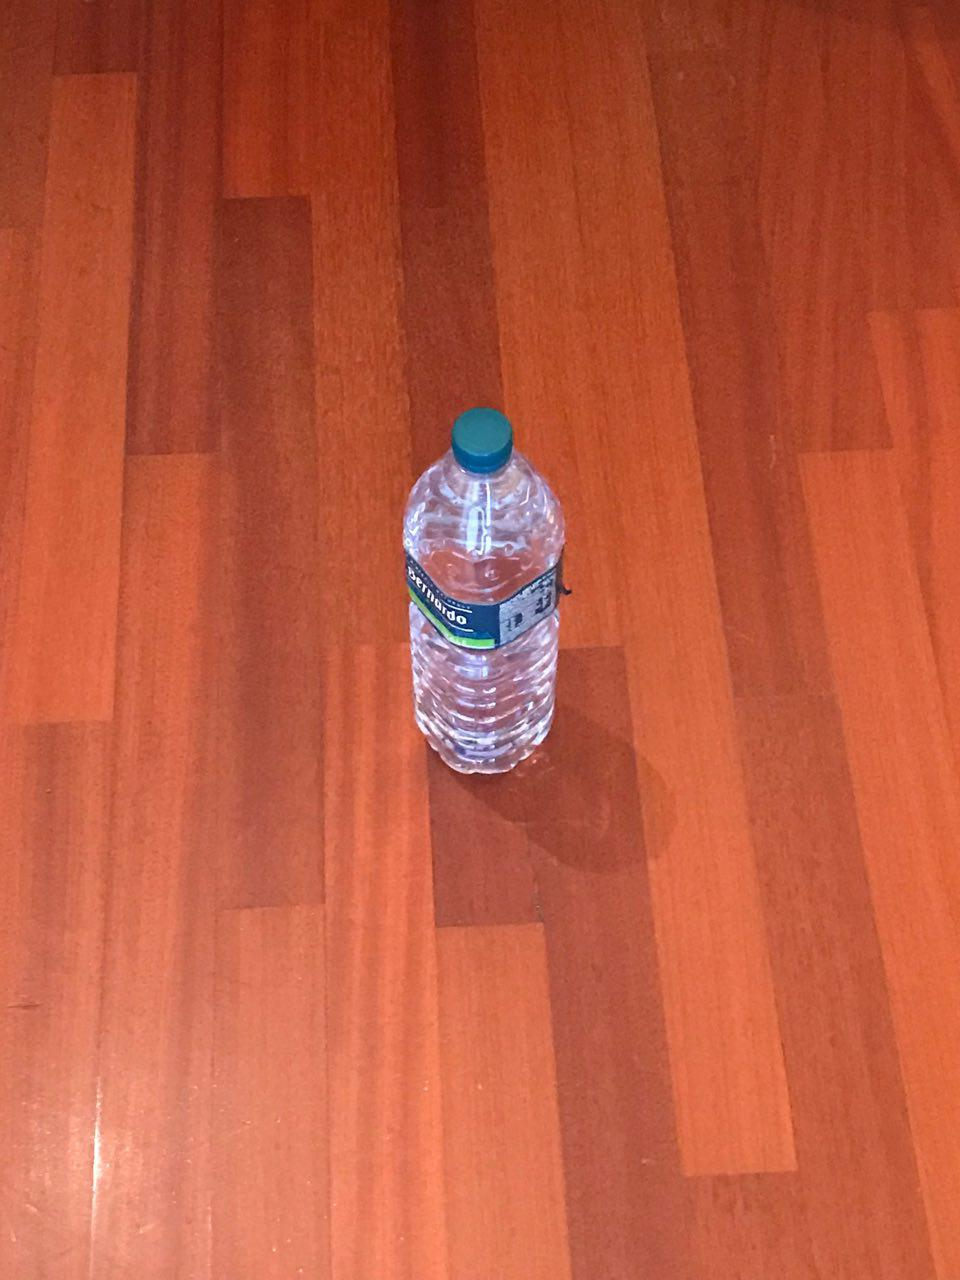san_bernardo: (400, 406, 569, 777)
